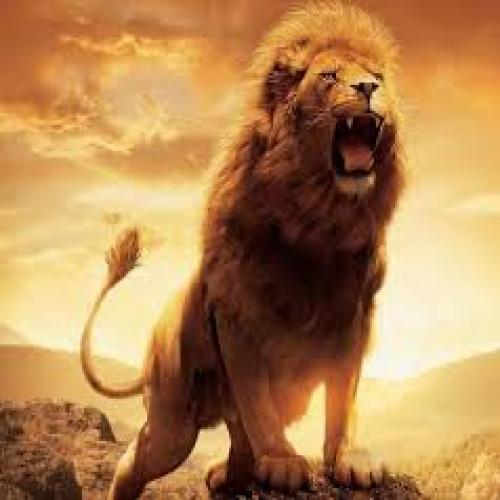lion-endangered: (86, 0, 401, 495)
